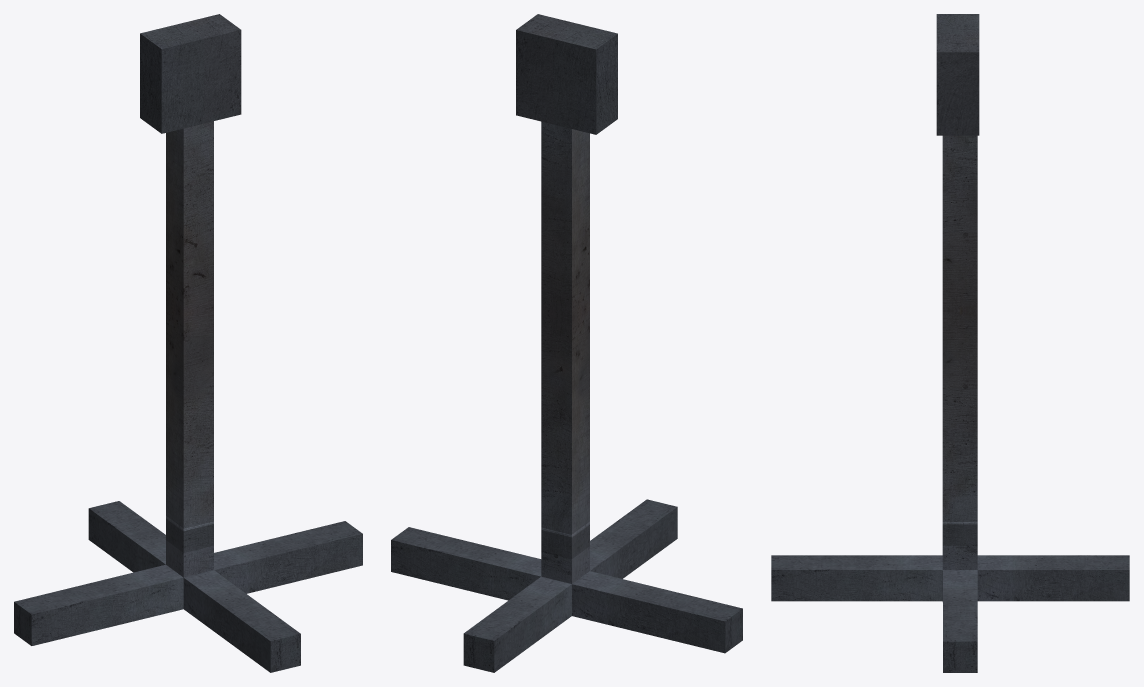
The model's file is 移动靶02低坐.FBX.
3 renders of one model, left to right at view 1: azimuth 30°, elevation 25°; view 2: azimuth 150°, elevation 25°; view 3: azimuth 270°, elevation 25°, orthographic. The views are drawn at different scales.
Parts seen in each view (by area): view 1: Object41; view 2: Object41; view 3: Object41.
Boxes of the visible parts, <box> form: Object41: <box>14,14,362,672</box>; Object41: <box>391,14,742,672</box>; Object41: <box>771,14,1129,672</box>.
Size of the model in its own units: 17.85 by 16.97 by 29.27.
